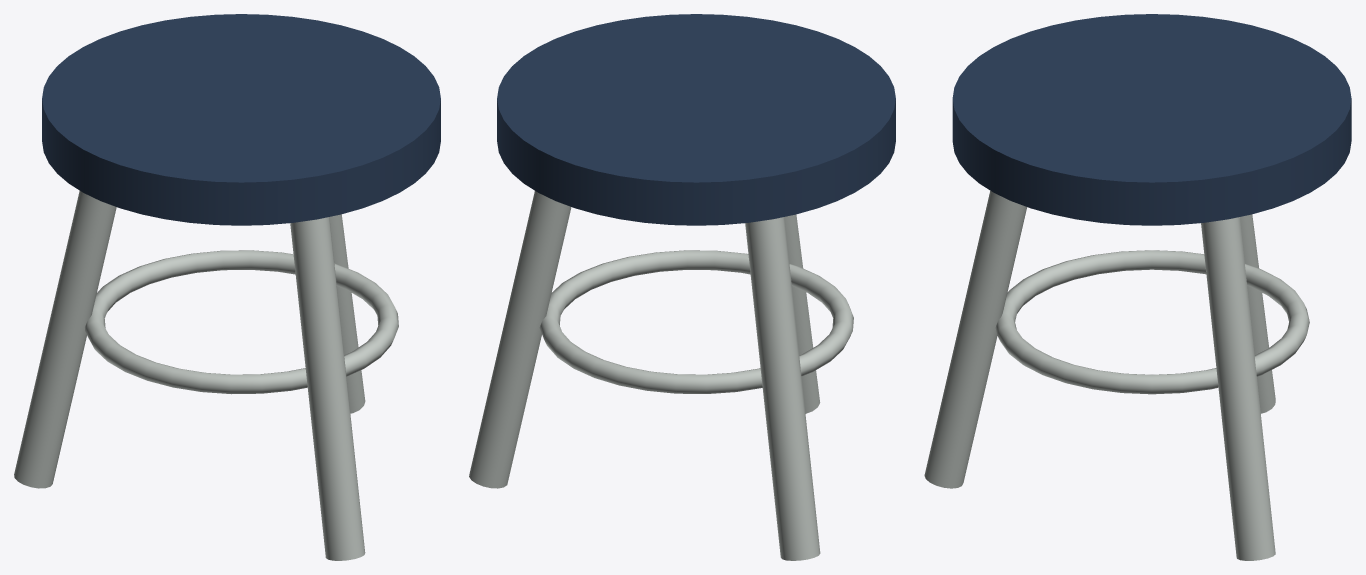
The model's file is planetarium-and-optical-observatory-observer-stool-c3c26ff1__31860.glb.
3 views of the same model, side by side, from view 1: azimuth 30°, elevation 25°; view 2: azimuth 150°, elevation 25°; view 3: azimuth 270°, elevation 25° (orthographic).
Visible parts, largest first — view 1: observer-stool; view 2: observer-stool; view 3: observer-stool.
Part boxes in pixels (x1,y1,x2,y2): observer-stool: [14, 14, 440, 560]; observer-stool: [469, 14, 895, 560]; observer-stool: [924, 14, 1351, 560].
Size of the model in its own units: 0.4606 by 0.4897 by 0.4925.
